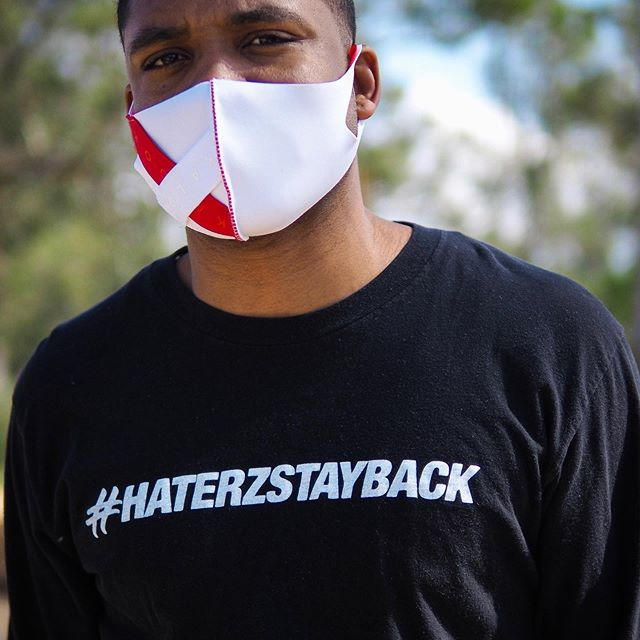homemade: (116, 79, 384, 242)
